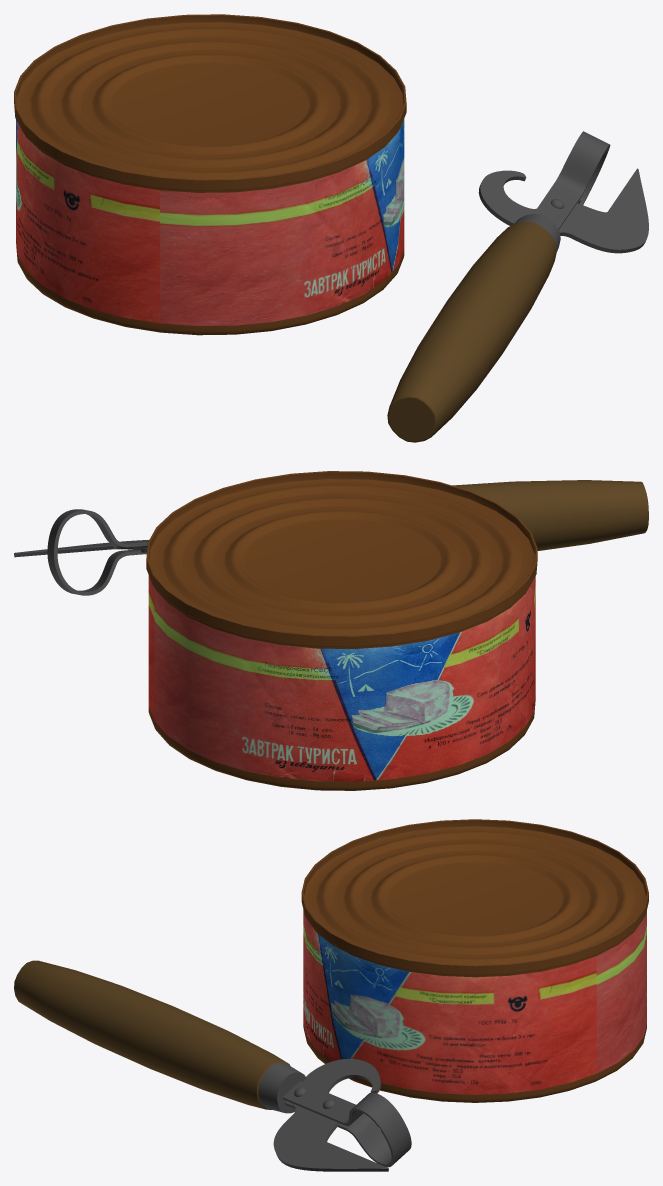
File: conserve.fbx
3 views of the same model, one above another, from view 1: azimuth 30°, elevation 25°; view 2: azimuth 150°, elevation 25°; view 3: azimuth 270°, elevation 25° (orthographic). The views are drawn at different scales.
Parts seen in each view (by area): view 1: Line001, Object002, Cylinder001, Line004; view 2: Line001, Object002, Cylinder001, Line004; view 3: Line001, Object002, Cylinder001, Line004.
Part boxes in pixels (bbox=[...]): Line001: bbox=[14, 14, 406, 335]; Object002: bbox=[16, 119, 404, 325]; Cylinder001: bbox=[387, 221, 556, 442]; Line004: bbox=[478, 131, 648, 253]; Line001: bbox=[146, 471, 537, 790]; Object002: bbox=[148, 575, 535, 781]; Cylinder001: bbox=[452, 480, 648, 550]; Line004: bbox=[14, 509, 148, 595]; Line001: bbox=[301, 819, 648, 1102]; Object002: bbox=[303, 910, 646, 1094]; Cylinder001: bbox=[14, 960, 290, 1109]; Line004: bbox=[258, 1058, 411, 1171].
Size of the model in its own units: 325 by 89.22 by 368.
4 materials, 1 textured.
